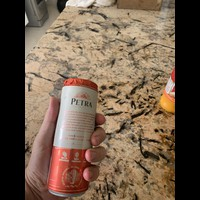petra: (47, 72, 99, 196)
